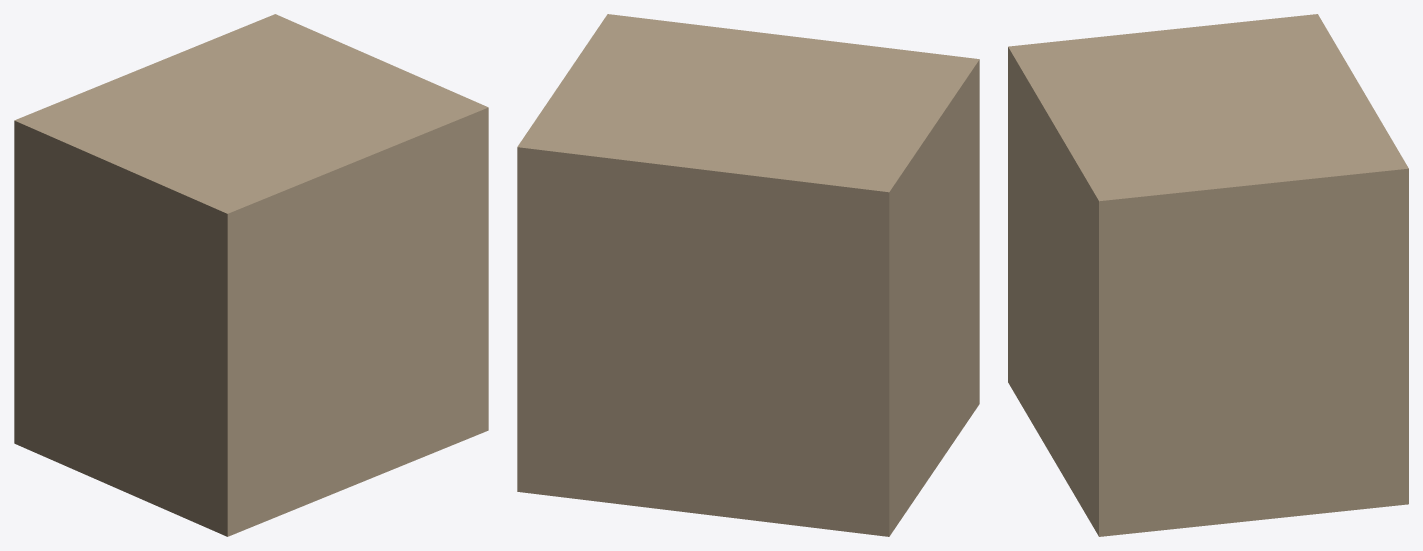
The model's file is bld_99877066.dae.
The picture shows the model from 3 angles, left to right: view 1: azimuth 30°, elevation 25°; view 2: azimuth 150°, elevation 25°; view 3: azimuth 270°, elevation 25°; orthographic projection. The views are drawn at different scales.
Visible parts, largest first — view 1: bld_99877066; view 2: bld_99877066; view 3: bld_99877066.
Part boxes in pixels (<box>): bld_99877066: <box>14,14,488,536</box>; bld_99877066: <box>517,14,979,536</box>; bld_99877066: <box>1008,14,1408,536</box>.
Size of the model in its own units: 9.57 by 8.66 by 8.
